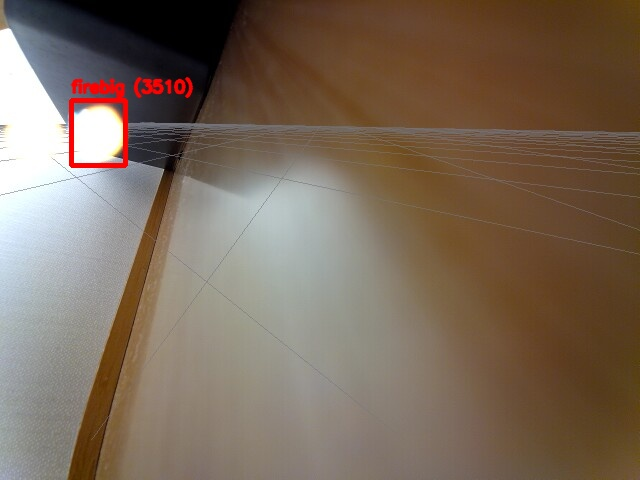firebig: (71, 100, 125, 165)
